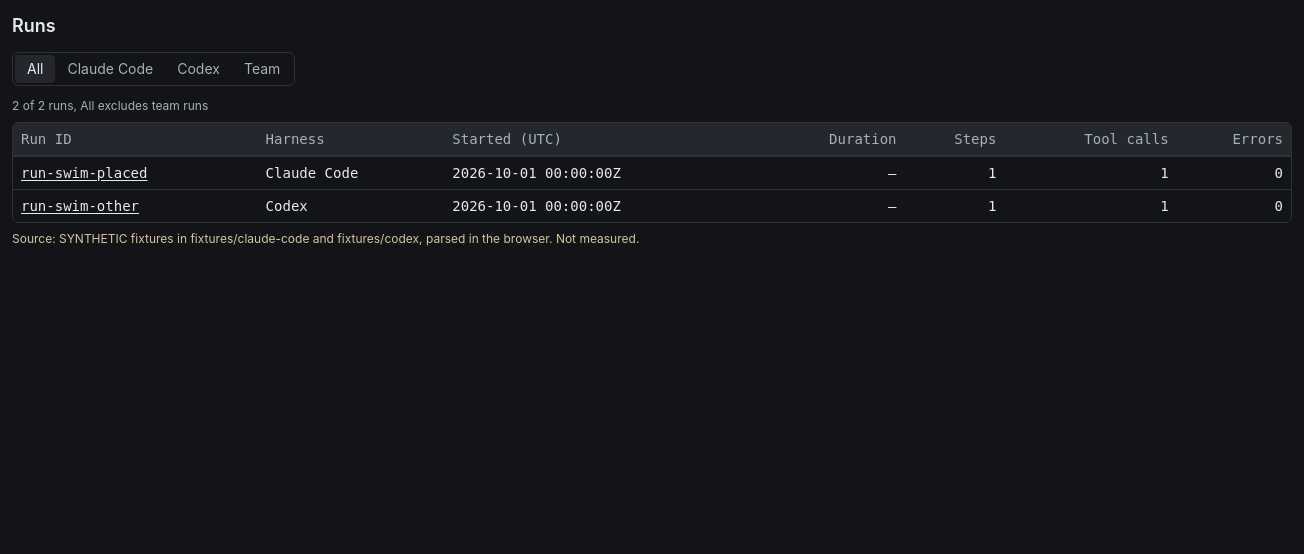
it: HL-015a A5: reached from the run detail › opening the other run shows the other run's lanes
Click the button "run-swim-other" at coordinates (80, 206), box [21,196,139,216]
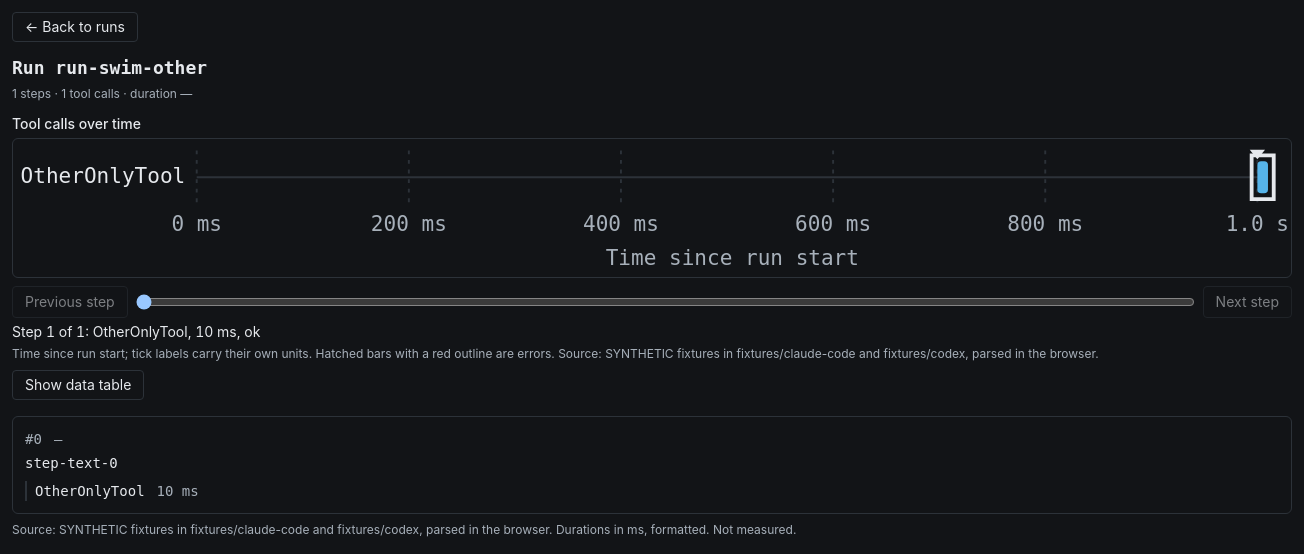
Expected: the element named "Run swimlane" shows "OtherOnlyTool", [21,163,185,188]
